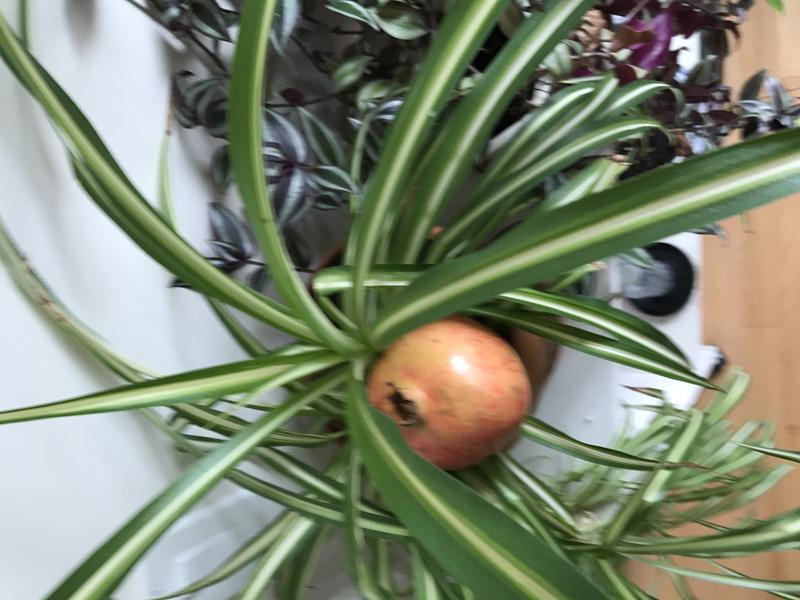pomegranate: (344, 298, 541, 478)
